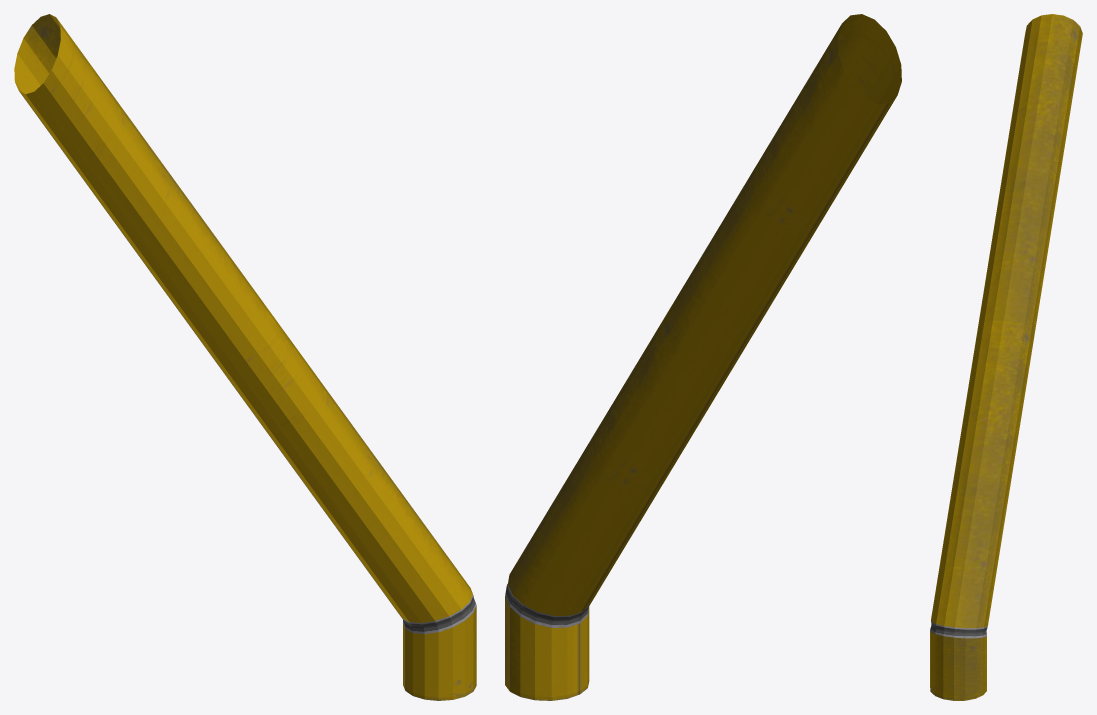
The model's file is 透明管子.obj.
3 views of the same model, side by side, from view 1: azimuth 30°, elevation 25°; view 2: azimuth 150°, elevation 25°; view 3: azimuth 270°, elevation 25° (orthographic). The views are drawn at different scales.
Parts seen in each view (by area): view 1: Line010; view 2: Line010; view 3: Line010.
Boxes of the visible parts, box(x1,y1,x2,y2) form: Line010: box(14, 14, 476, 700); Line010: box(505, 14, 901, 700); Line010: box(930, 14, 1082, 700).
Size of the model in its own units: 16.9 by 29.06 by 7.3.
